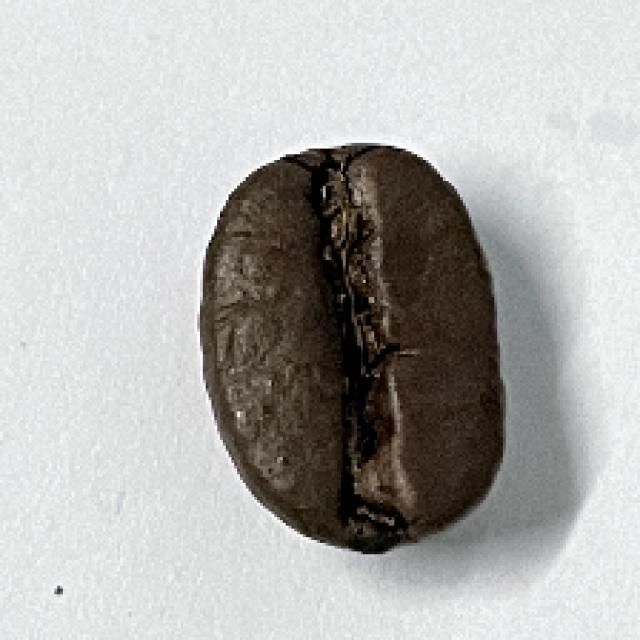bean: (192, 138, 510, 556)
